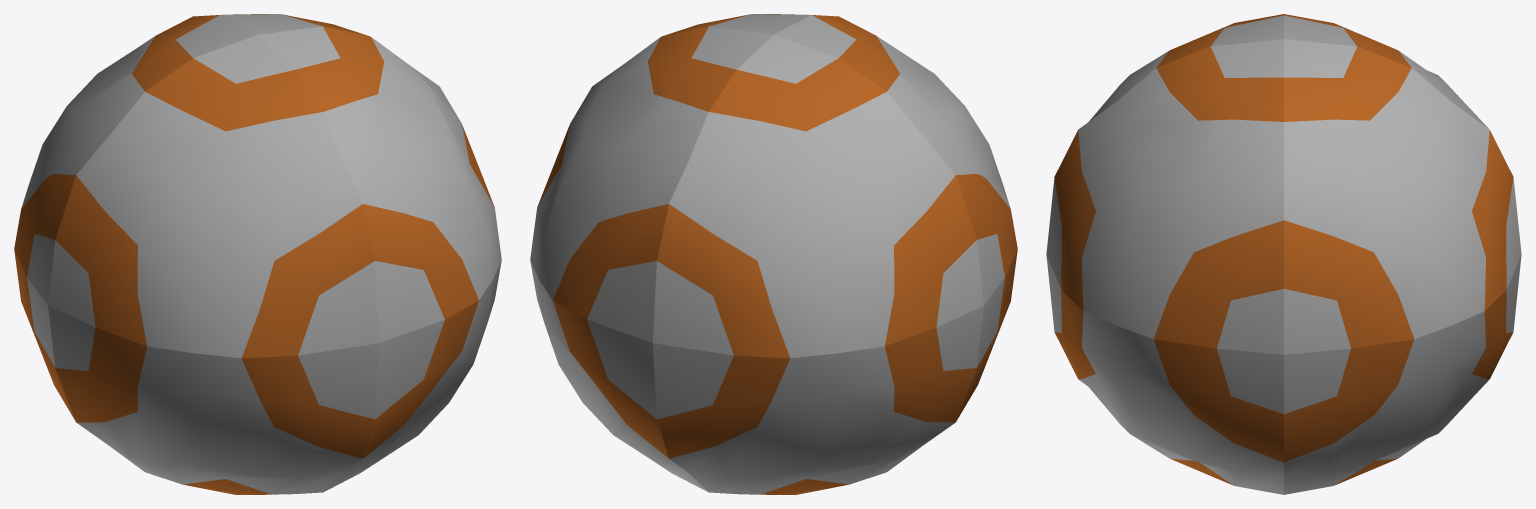
The picture shows the model from 3 angles, left to right: view 1: azimuth 30°, elevation 25°; view 2: azimuth 150°, elevation 25°; view 3: azimuth 270°, elevation 25°; orthographic projection. The views are drawn at different scales.
Parts seen in each view (by area): view 1: pCube9; view 2: pCube9; view 3: pCube9.
Part boxes in pixels (box(x1,y1,x2,y2)): pCube9: box(14, 14, 501, 494); pCube9: box(530, 14, 1017, 494); pCube9: box(1046, 14, 1521, 494).
Bounding box in the file's own units: 1 × 1 × 1.
